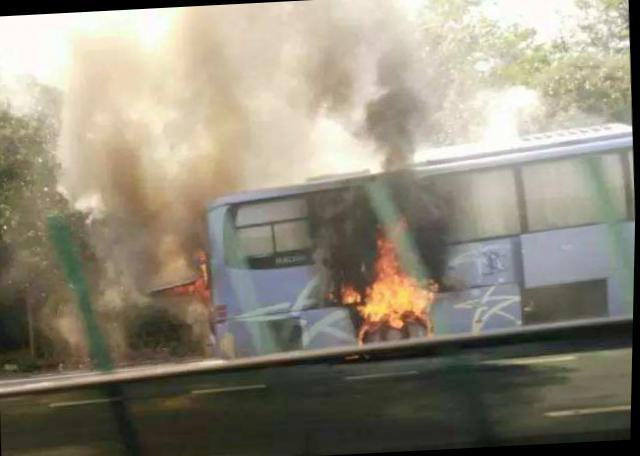fire: (331, 232, 444, 347)
